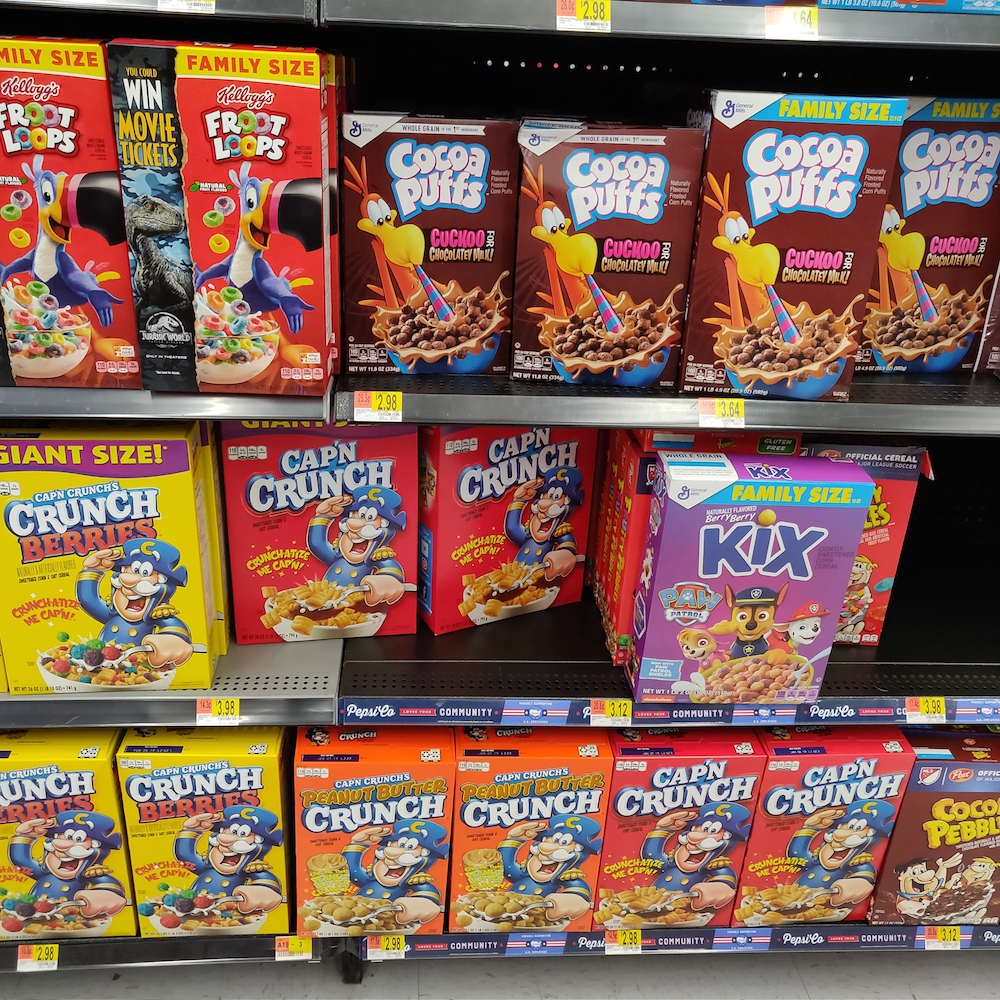Kix Berry -568919964: (653, 461, 841, 698)
